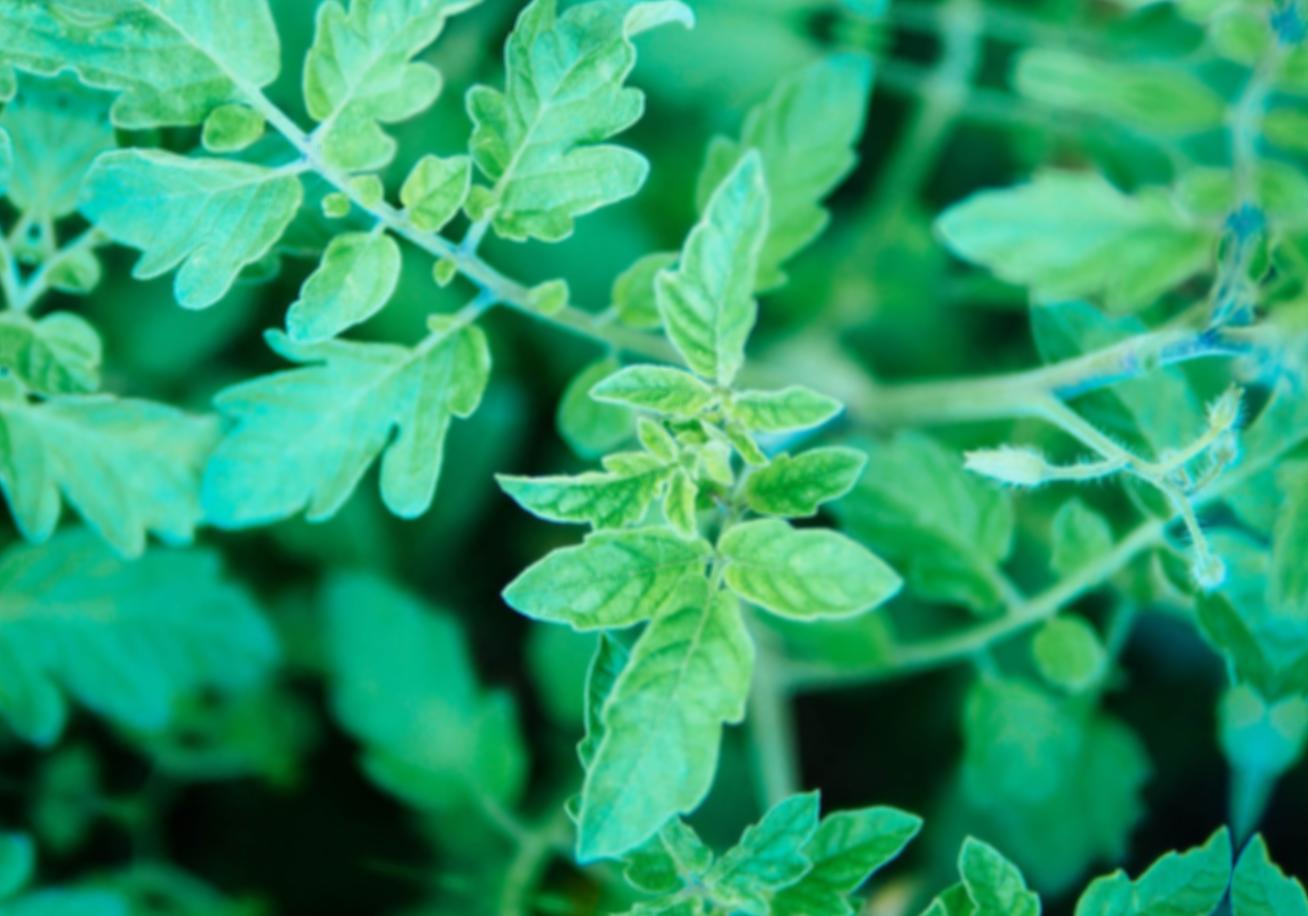Tomato leaf: (192, 248, 510, 588), (434, 0, 698, 289), (575, 548, 772, 898), (43, 108, 315, 332), (475, 492, 728, 672), (635, 135, 798, 406), (58, 0, 313, 166), (289, 0, 480, 212), (707, 503, 913, 641)
